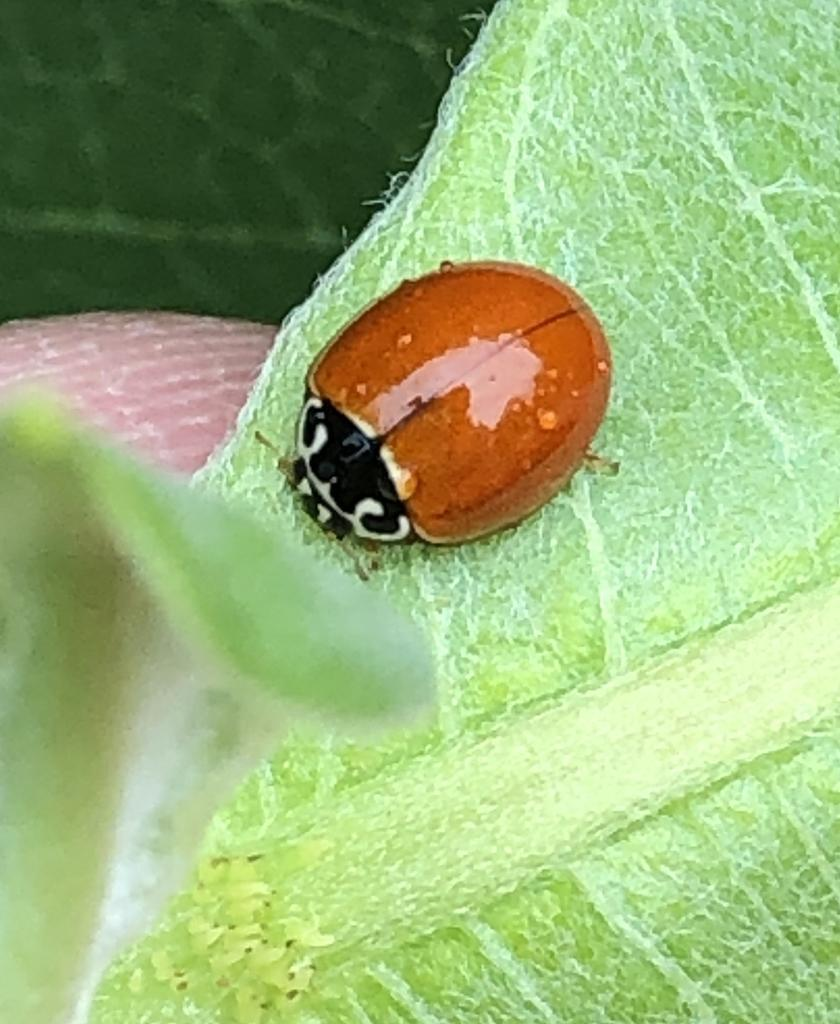ladybug: (251, 256, 626, 586)
